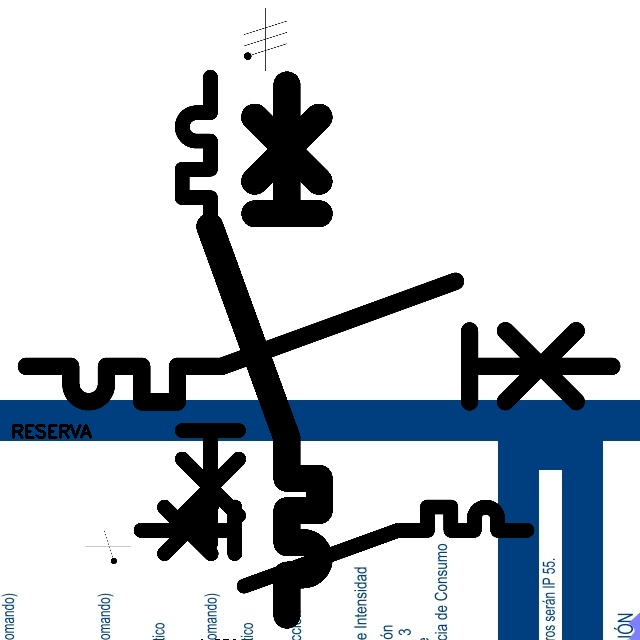interruptor_termomagnetico: (11, 266, 626, 417), (196, 71, 333, 629), (170, 65, 290, 555), (130, 497, 536, 596)
